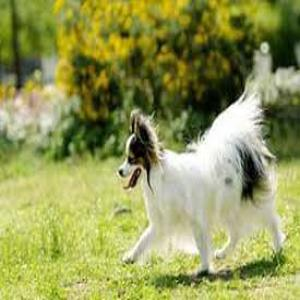yell: (117, 87, 286, 277)
